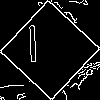I: (25, 25, 41, 72)
